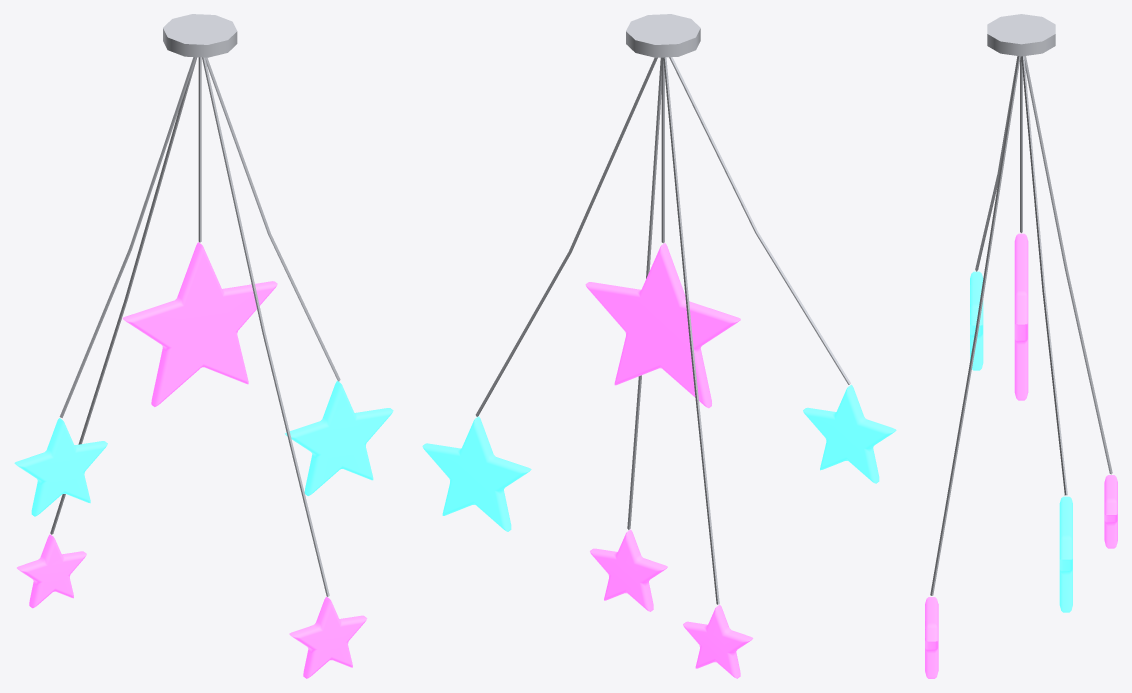
File: neon_stars_cluster.glb
3 renders of one model, left to right at view 1: azimuth 30°, elevation 25°; view 2: azimuth 150°, elevation 25°; view 3: azimuth 270°, elevation 25°, orthographic. The views are drawn at different scales.
Visible parts, largest first — view 1: neon_stars_cluster; view 2: neon_stars_cluster; view 3: neon_stars_cluster.
Boxes of the visible parts, x1,y1,x2,y2 form: neon_stars_cluster: [14, 14, 393, 678]; neon_stars_cluster: [422, 14, 896, 678]; neon_stars_cluster: [925, 14, 1117, 678].
Size of the model in its own units: 1.04 by 1.48 by 0.43.
